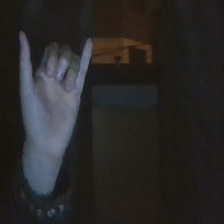Y: (14, 22, 98, 169)
